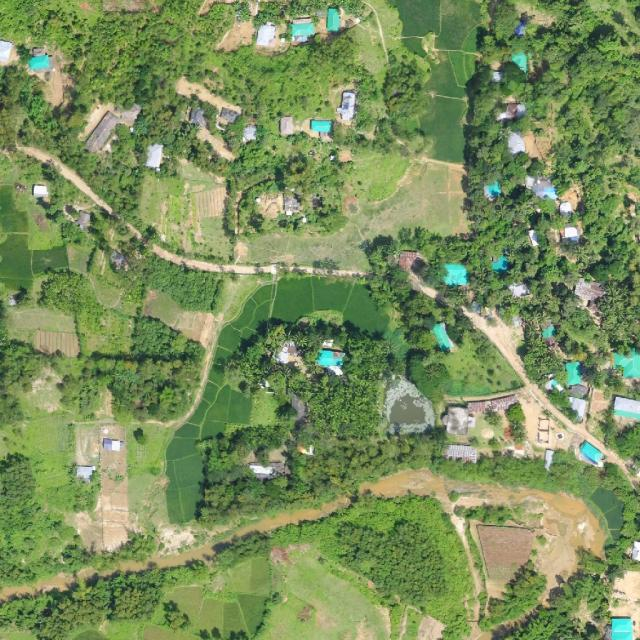agricultural_land: (97, 234, 395, 529), (369, 157, 468, 236), (74, 422, 131, 551), (0, 185, 68, 291), (4, 301, 89, 363), (99, 423, 130, 550), (227, 554, 272, 596), (233, 593, 266, 636), (214, 599, 247, 638), (167, 587, 203, 622), (75, 511, 103, 553), (197, 598, 224, 632), (92, 389, 114, 419), (143, 625, 173, 640), (71, 629, 109, 639), (186, 260, 190, 263)
building: (83, 110, 122, 156), (575, 439, 609, 470), (612, 350, 640, 378), (445, 442, 479, 465), (525, 176, 558, 199), (316, 347, 345, 371), (336, 88, 357, 121), (445, 406, 468, 435), (442, 262, 468, 287), (612, 396, 640, 419), (291, 17, 315, 43), (256, 21, 277, 47), (144, 142, 164, 168), (490, 255, 513, 277), (507, 130, 526, 154), (481, 181, 502, 202), (611, 618, 632, 639), (187, 107, 206, 129), (76, 465, 96, 483), (28, 55, 51, 70), (508, 283, 531, 298), (565, 361, 580, 384), (511, 52, 526, 72), (326, 9, 339, 31), (309, 119, 331, 132), (279, 116, 294, 135), (564, 227, 580, 243), (543, 449, 554, 471), (32, 185, 49, 198), (541, 325, 555, 339), (559, 201, 571, 216)
dryland: (358, 409, 621, 602), (460, 287, 553, 386), (501, 388, 578, 464), (474, 525, 533, 582)
greenland: (269, 440, 515, 640), (190, 414, 453, 528), (0, 334, 117, 497), (0, 551, 213, 640), (99, 311, 215, 435), (24, 255, 145, 372), (430, 432, 607, 501), (190, 398, 303, 481), (33, 260, 118, 335), (135, 253, 224, 318), (308, 375, 380, 438), (40, 456, 108, 522), (218, 332, 284, 398), (336, 329, 397, 385), (86, 527, 159, 572), (587, 480, 638, 541), (208, 528, 274, 572), (283, 368, 320, 404), (82, 332, 130, 356), (262, 320, 292, 354), (605, 541, 631, 569), (266, 365, 289, 396)
unmetalled_road: (149, 244, 368, 292), (17, 135, 122, 217), (124, 221, 143, 241)
